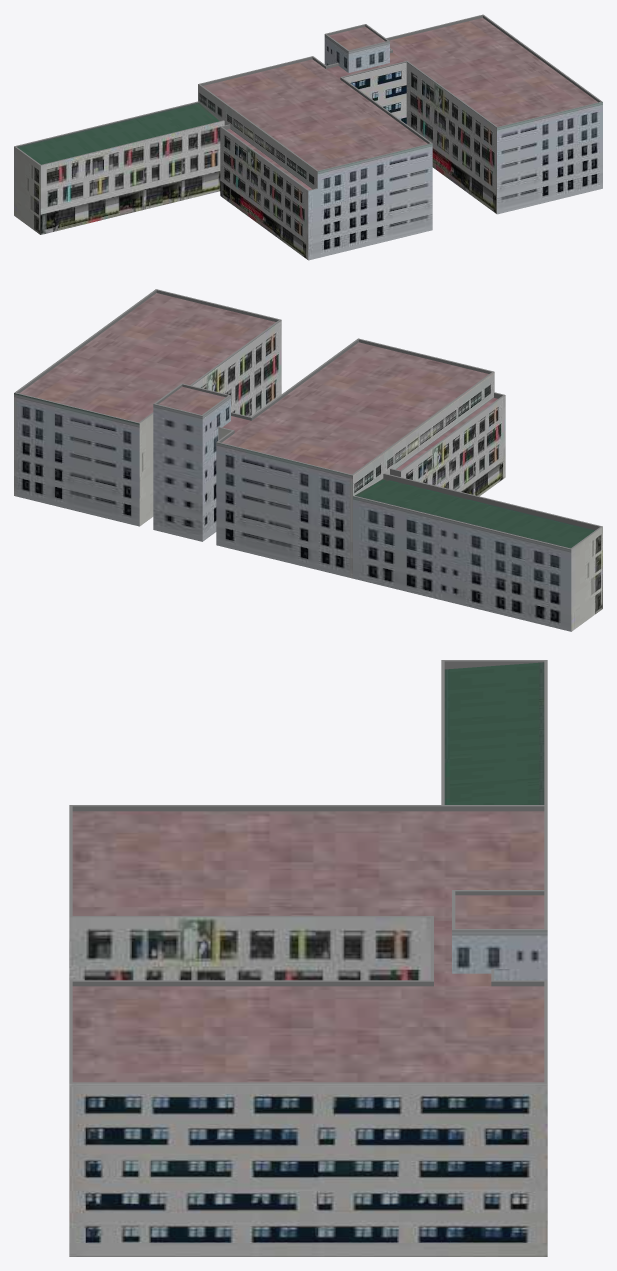
3 renders of one model, top to bottom at view 1: azimuth 30°, elevation 25°; view 2: azimuth 150°, elevation 25°; view 3: azimuth 270°, elevation 25°, orthographic. The views are drawn at different scales.
Visible parts, largest first — view 1: HN851_YenHoaSecondaryschool; view 2: HN851_YenHoaSecondaryschool; view 3: HN851_YenHoaSecondaryschool.
Part boxes in pixels (x1=…): HN851_YenHoaSecondaryschool: x1=14, y1=14, x2=602, y2=260; HN851_YenHoaSecondaryschool: x1=14, y1=289, x2=602, y2=631; HN851_YenHoaSecondaryschool: x1=69, y1=660, x2=547, y2=1256.
Size of the model in its own units: 102 by 22 by 45.
Materials: 1 (1 with a texture image).
